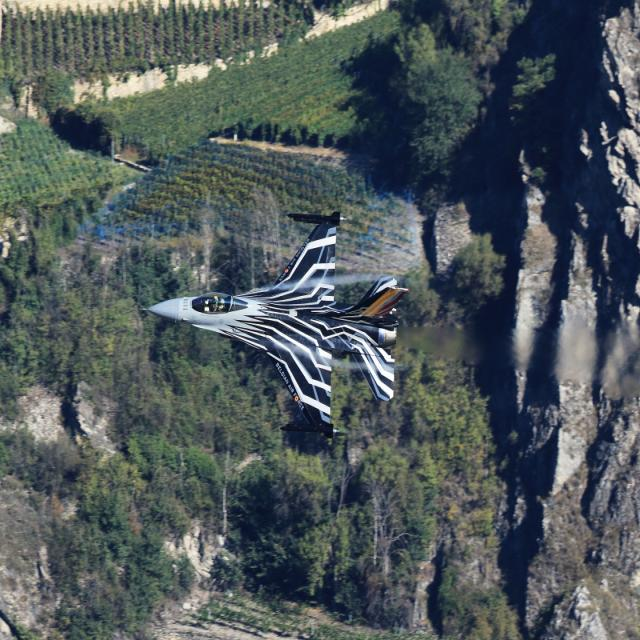MIL_Plane: (138, 210, 408, 440)
